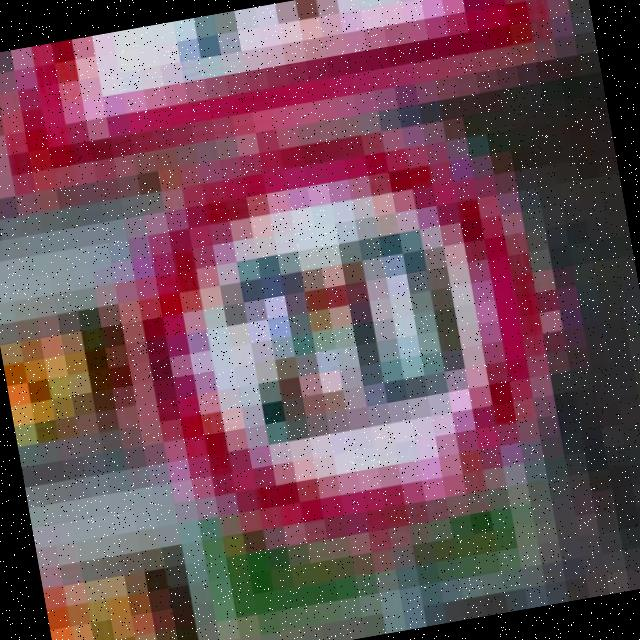Ograniczenie predkosci do 20: (114, 106, 575, 564)
